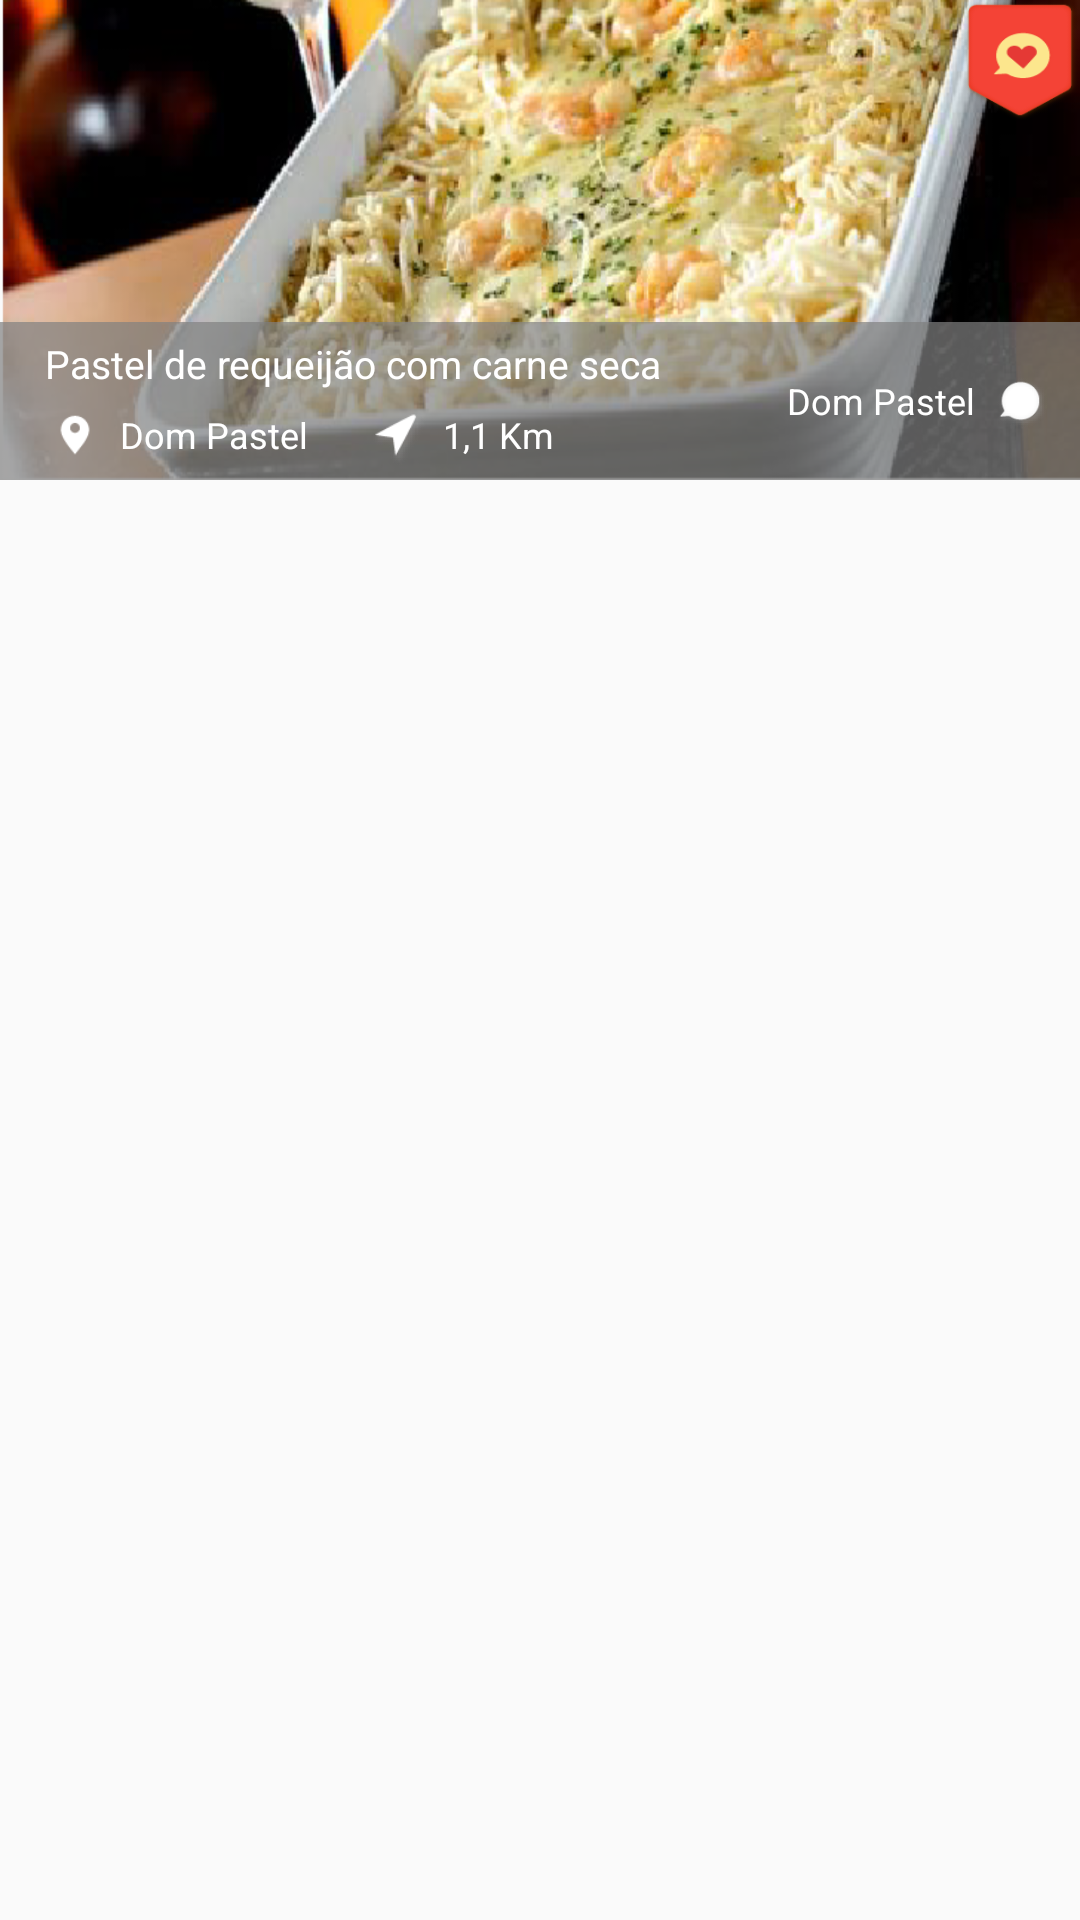

Screen size 1080×1920. Icon name, then its center in pixels as (x=x, y=y):
address name: (x=75, y=434)
comment: (x=1021, y=402)
local distance: (x=398, y=435)
